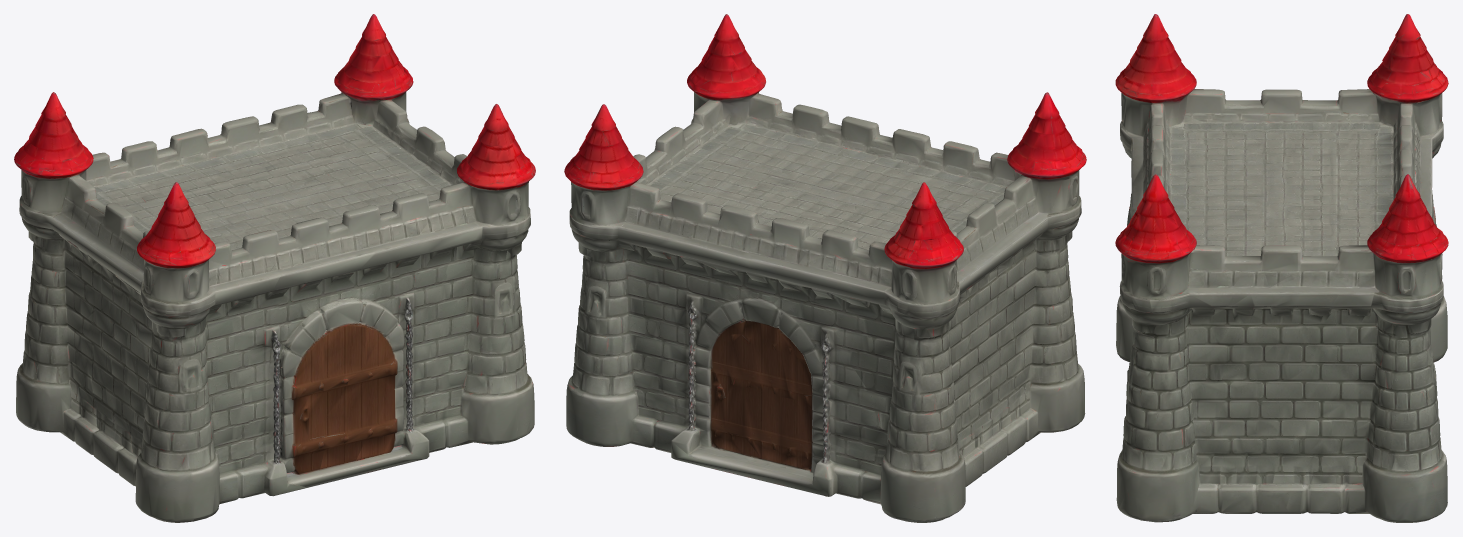
Rendered from chest-knights.glb.
3 renders of one model, left to right at view 1: azimuth 30°, elevation 25°; view 2: azimuth 150°, elevation 25°; view 3: azimuth 270°, elevation 25°, orthographic. The views are drawn at different scales.
Visible parts, largest first — view 1: Mesh_0; view 2: Mesh_0; view 3: Mesh_0.
Boxes of the visible parts, x1,y1,x2,y2 form: Mesh_0: (14,14,535,522); Mesh_0: (564,14,1086,522); Mesh_0: (1115,14,1448,522).
Size of the model in its own units: 1.89 by 1.53 by 1.37.
1 material, 1 textured.
